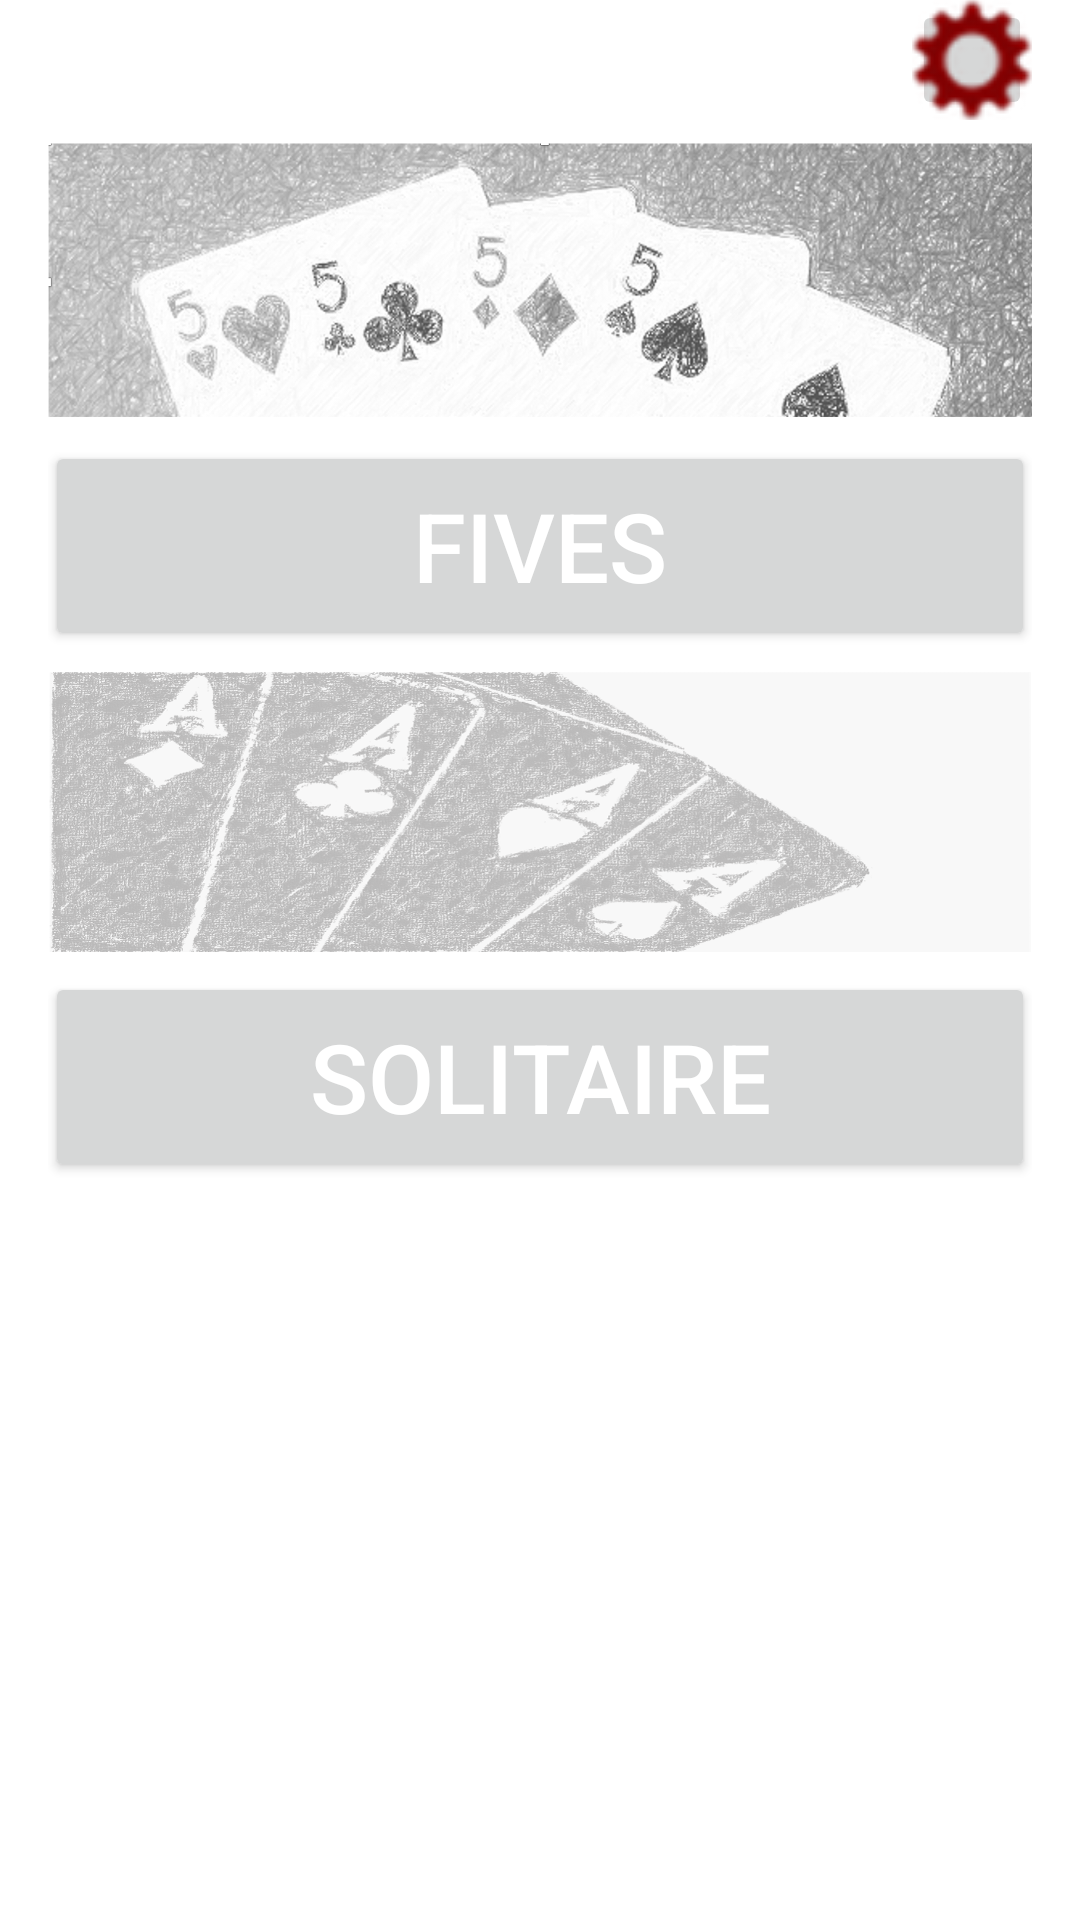

Point at icon controls on the screen. Image size 1080 x 1920, points as (x,y).
cog: (972,60)
